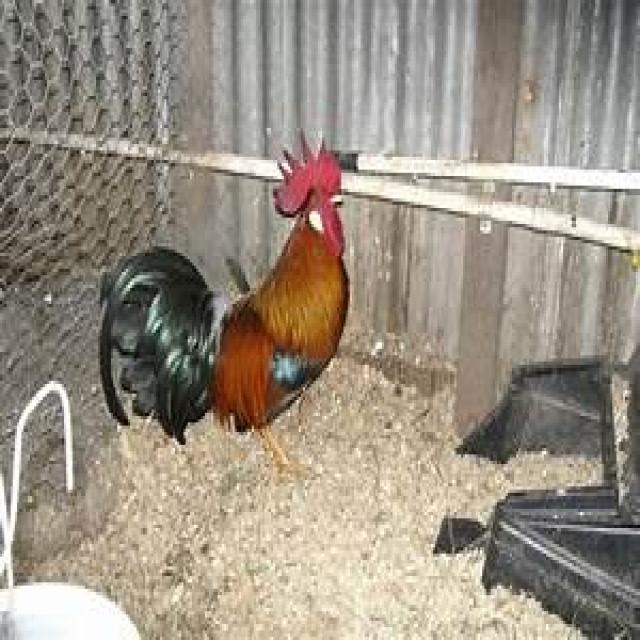hen: (96, 138, 352, 470)
